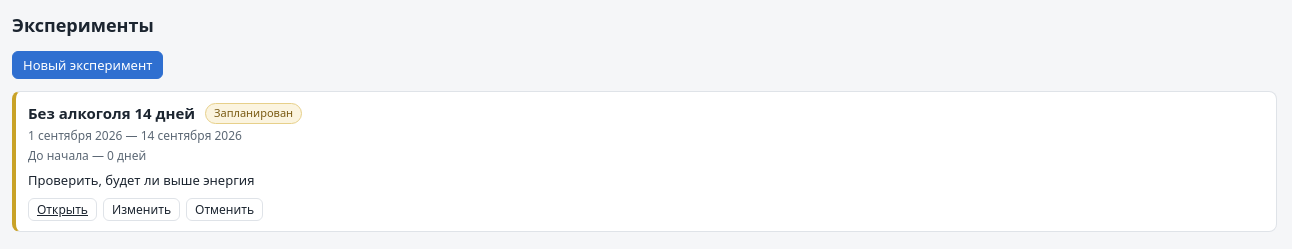
it: ExperimentsPage › cancels a scheduled experiment
Click the button "Отменить".
click(224, 210)  # box [186,198,263,221]
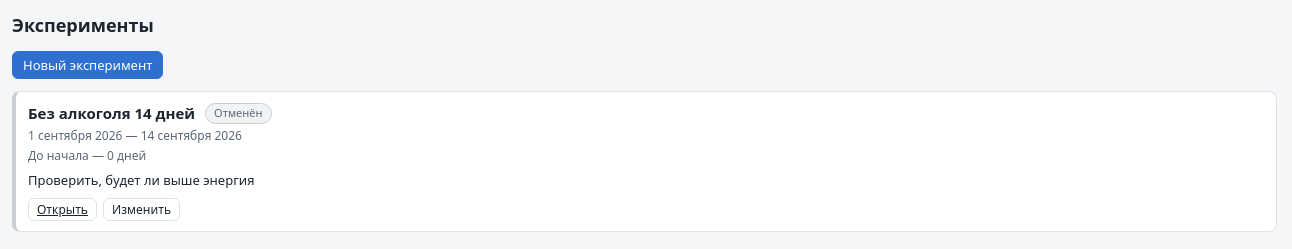
Check: the text "Отменён" is shown, box [205,103,272,124]
